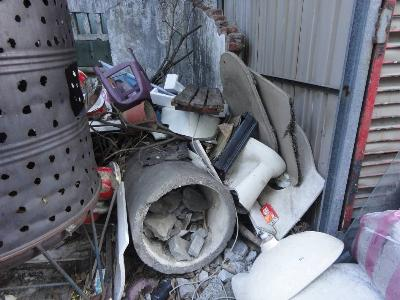bucket: (119, 100, 158, 135)
toilet: (223, 133, 289, 218)
